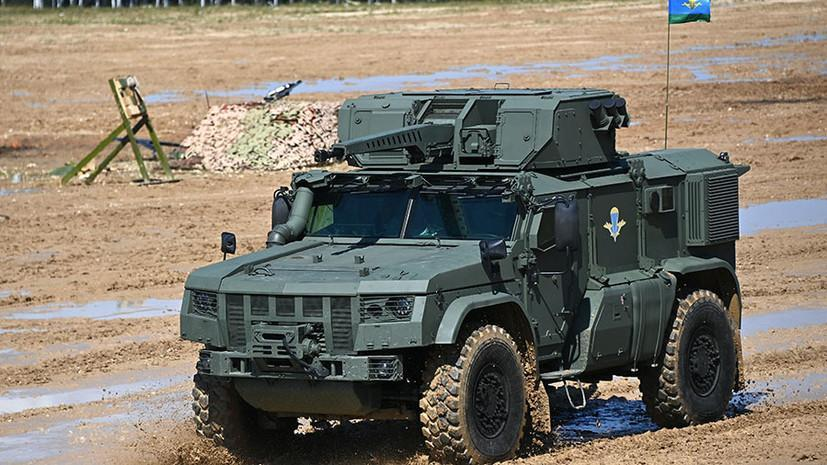armored_car: (190, 76, 759, 450)
